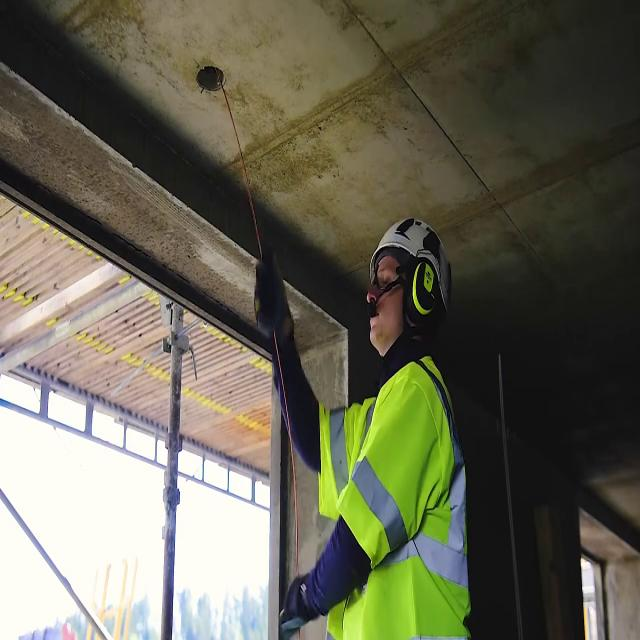earmuff: (414, 256, 434, 324)
helmet: (387, 211, 457, 250)
